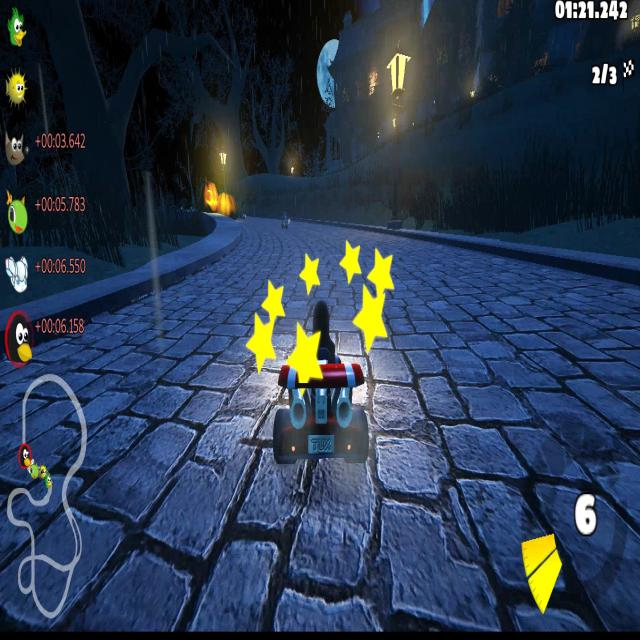enemy_kart: (279, 207, 291, 236)
obstacle: (204, 178, 234, 220)
player_kart: (274, 320, 372, 481)
track: (366, 257, 640, 640), (0, 339, 273, 626), (276, 488, 368, 637), (248, 236, 368, 332), (192, 259, 249, 334), (148, 286, 192, 338), (377, 235, 464, 259), (299, 212, 357, 236), (118, 301, 147, 340), (241, 206, 278, 229)
